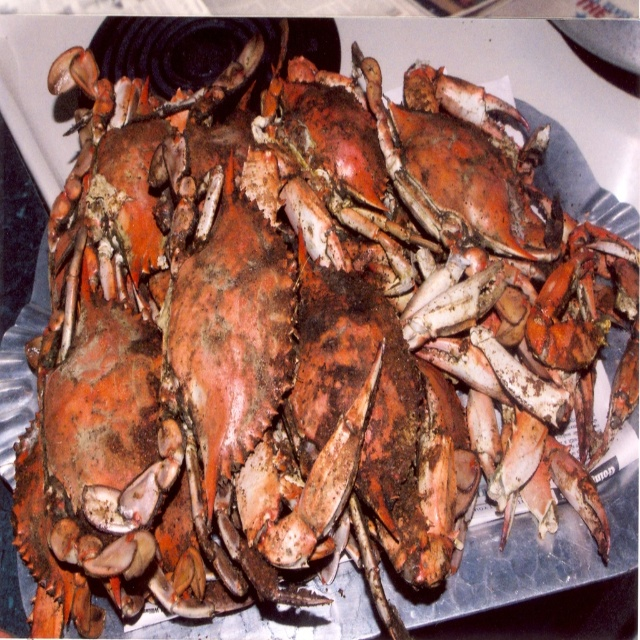Crab: (8, 29, 640, 639)
